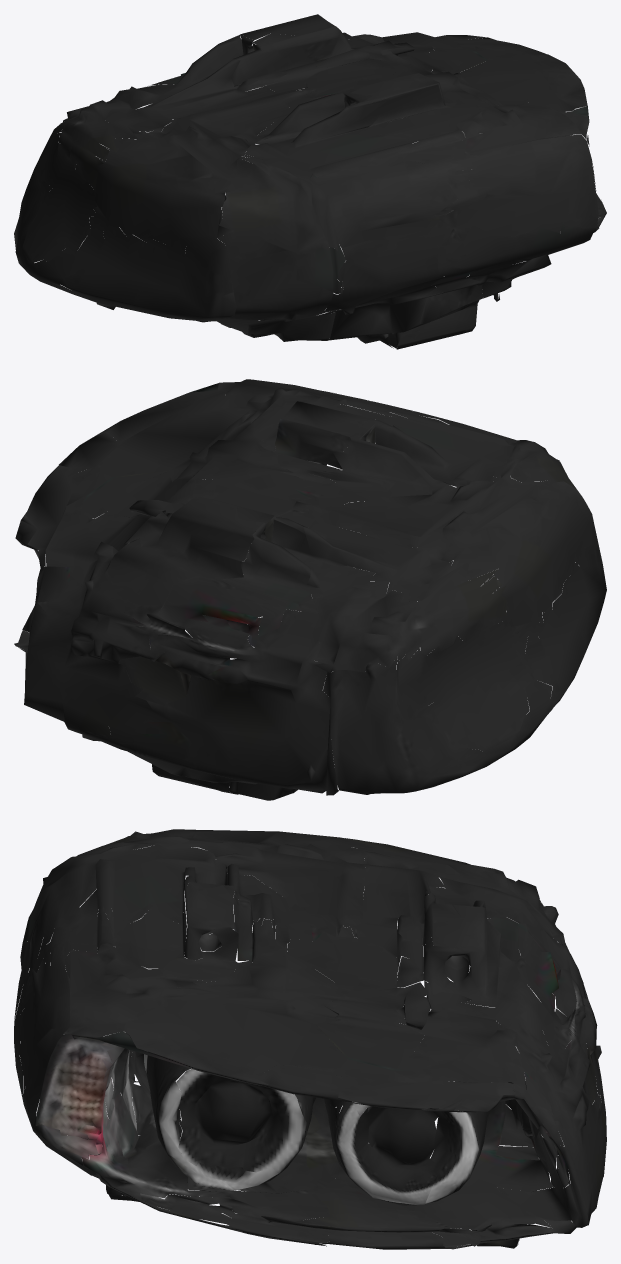
File: bavorak_headlight.glb
3 renders of one model, top to bottom at view 1: azimuth 30°, elevation 25°; view 2: azimuth 150°, elevation 25°; view 3: azimuth 270°, elevation 25°, orthographic. The views are drawn at different scales.
Visible parts, largest first — view 1: tripo_node_33239b3c-9174-4af6-9cf5-766155837035; view 2: tripo_node_33239b3c-9174-4af6-9cf5-766155837035; view 3: tripo_node_33239b3c-9174-4af6-9cf5-766155837035.
Part boxes in pixels (x1,y1,x2,y2): tripo_node_33239b3c-9174-4af6-9cf5-766155837035: [14, 14, 606, 349]; tripo_node_33239b3c-9174-4af6-9cf5-766155837035: [14, 379, 606, 800]; tripo_node_33239b3c-9174-4af6-9cf5-766155837035: [14, 829, 606, 1249].
Size of the model in its own units: 1 by 0.5124 by 0.8567.
Materials: 1 (1 with a texture image).
